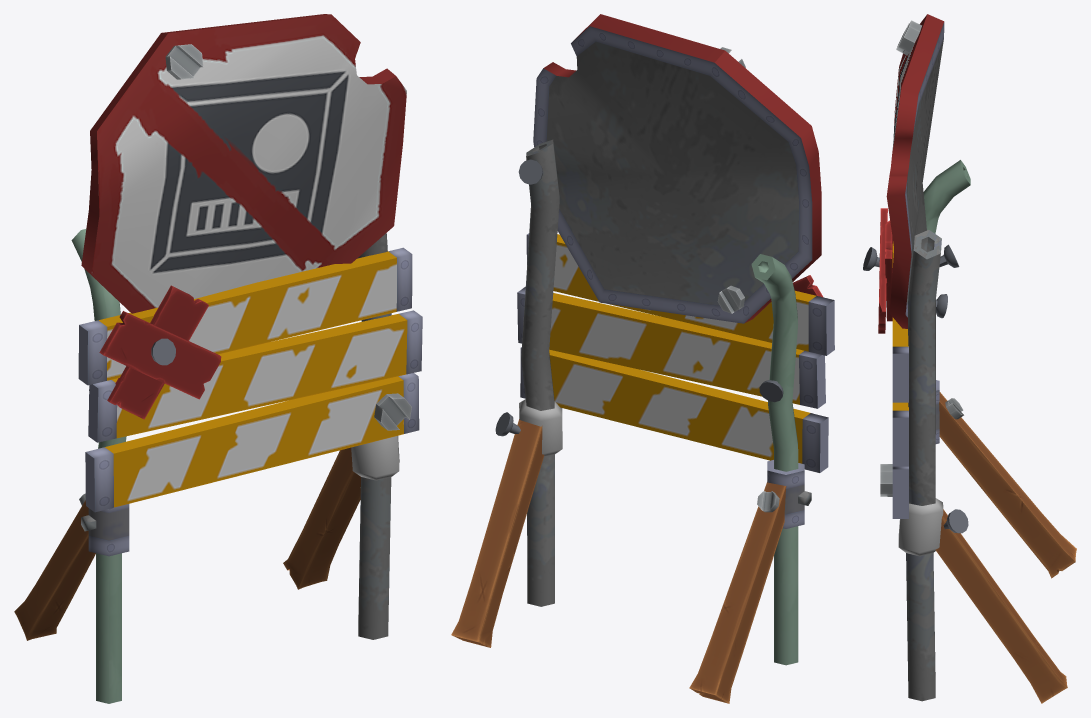
Rendered from env_hideout_hideoutsign01.fbx.
3 renders of one model, left to right at view 1: azimuth 30°, elevation 25°; view 2: azimuth 150°, elevation 25°; view 3: azimuth 270°, elevation 25°, orthographic. The views are drawn at different scales.
Parts seen in each view (by area): view 1: env_hideout_hideoutsign01; view 2: env_hideout_hideoutsign01; view 3: env_hideout_hideoutsign01.
Part boxes in pixels (box(x1,y1,x2,y2)): env_hideout_hideoutsign01: box(14, 14, 422, 703); env_hideout_hideoutsign01: box(451, 14, 834, 703); env_hideout_hideoutsign01: box(863, 14, 1076, 703).
Bounding box in the file's own units: 11.32 × 20.93 × 6.85.
1 material, 1 textured.
